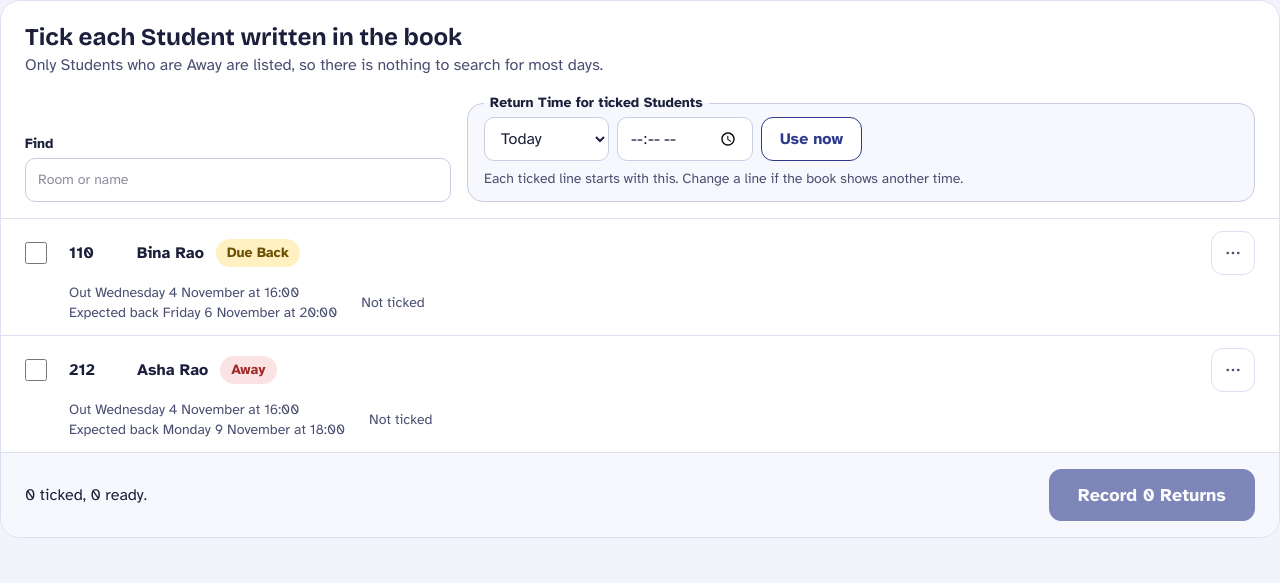
the Back-from-Home Book › a ticked line takes the Return Time from the top, and follows it while unchanged
Type "17:15" into the time field named "Return Time for ticked Students" at (685, 139), box [617,117,753,161]
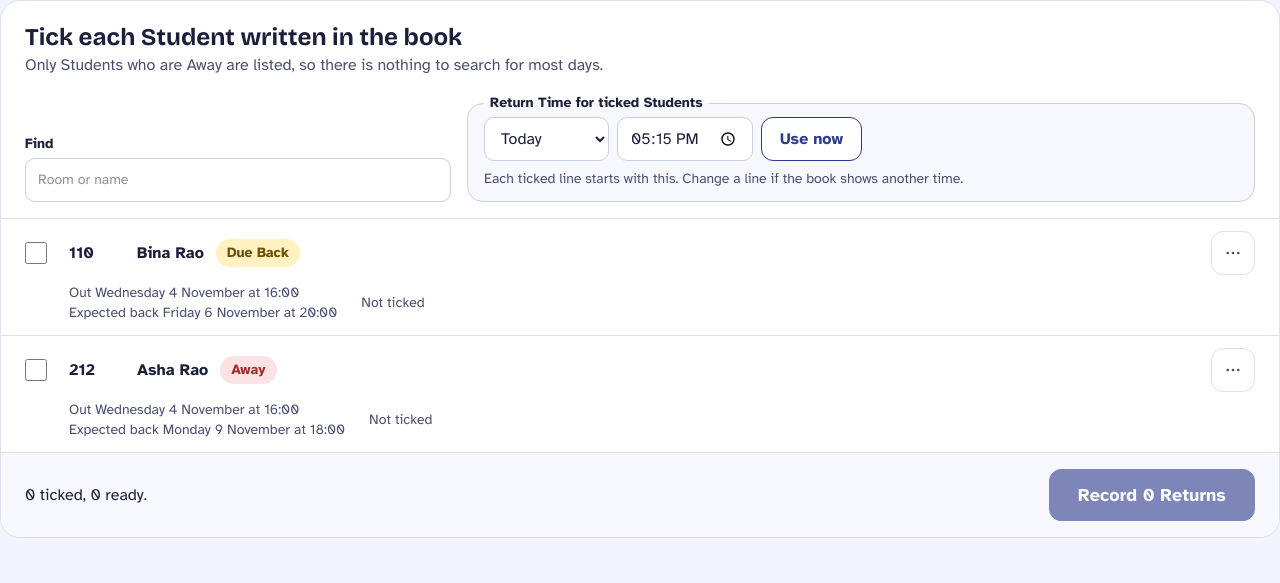
Click the checkbox named "Asha Rao came back" at (36, 370), box [25,359,47,381]
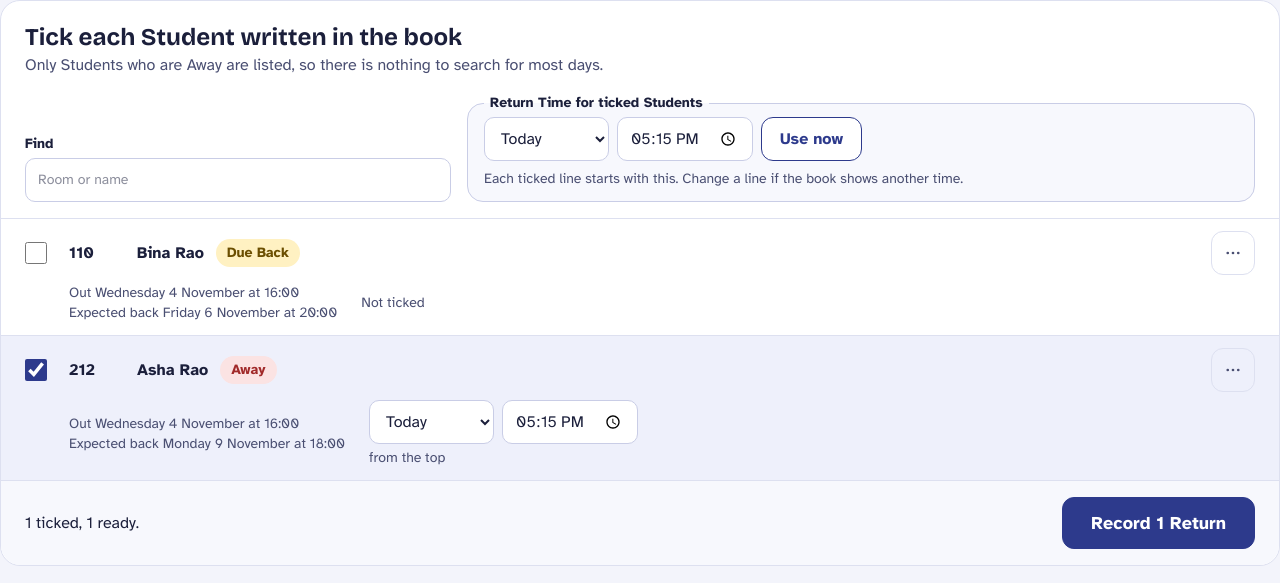
Result: the time field named "Return Time for Asha Rao" holds "17:15" at [502,400,638,444]
Result: the text "from the top" is shown at [369,449,445,466]
Replace the text in the time field named "Return Time for ticked Students" with "18:00" at (685, 139), box [617,117,753,161]
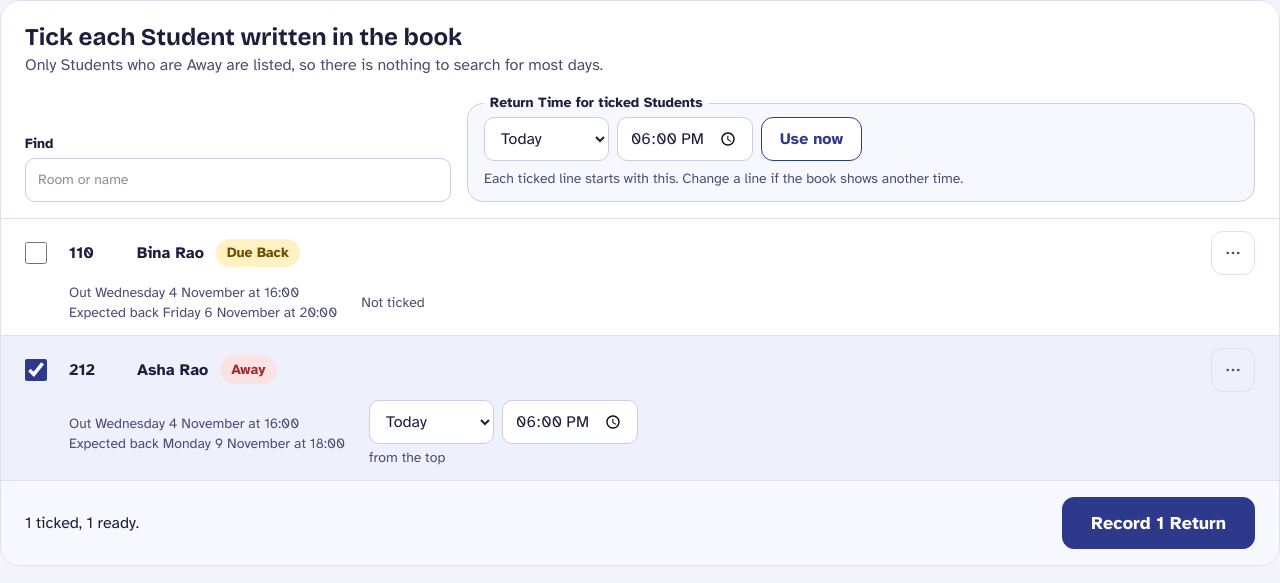
Result: the time field named "Return Time for Asha Rao" holds "18:00" at [502,400,638,444]
